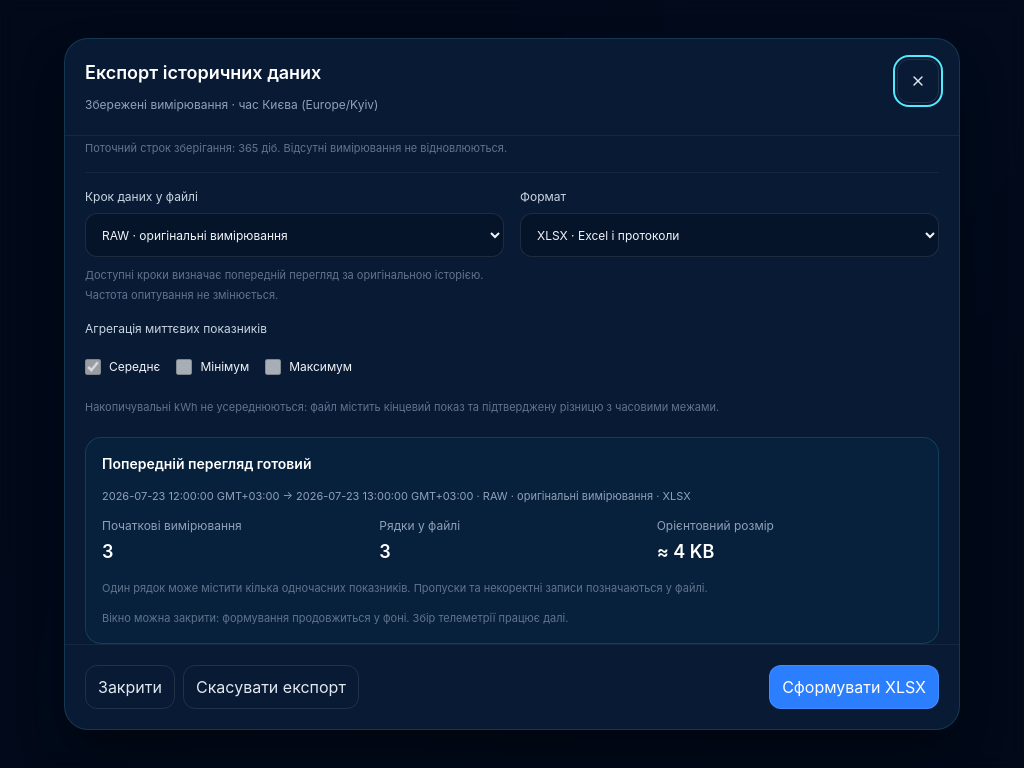
Test: Energy export dialog › invalidates prepared counts when step or format changes
(page scrolled)
Expected: the button "Сформувати XLSX" is shown, [769, 665, 939, 709]
Step 1. Select "1 хвилина" in the dropdown labelled "Крок даних у файлі" → [294, 235], box [85, 213, 504, 257]
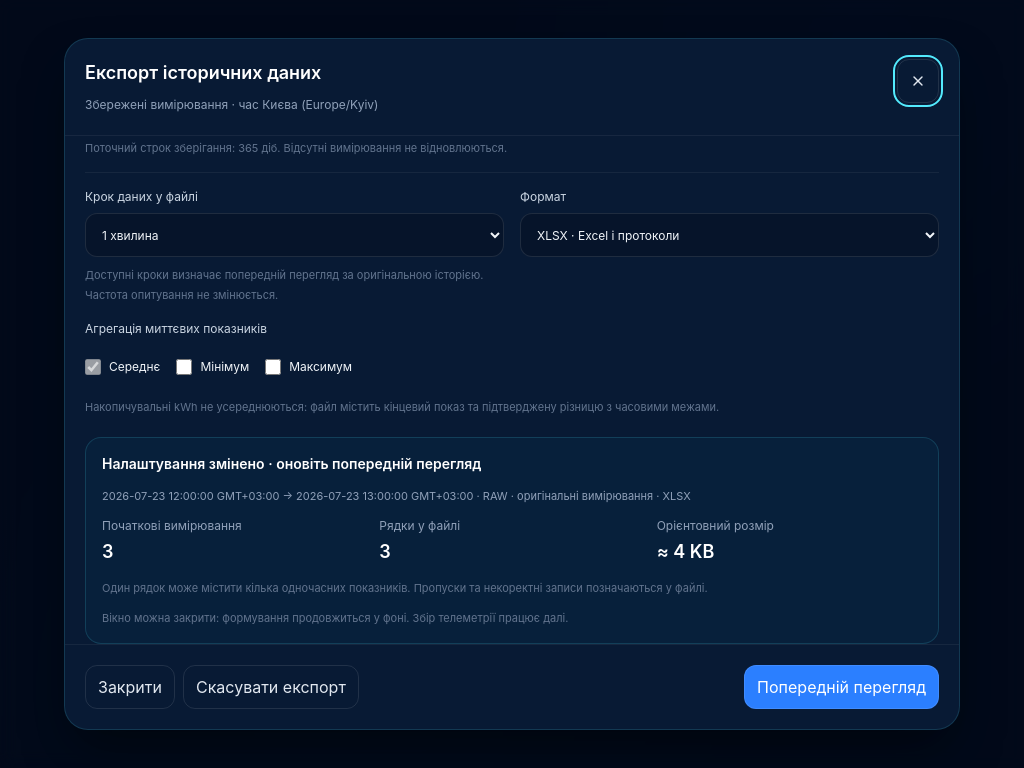
Now the button "Сформувати XLSX" is gone
Now the text "Налаштування змінено · оновіть попередній перегляд" is shown, box [102, 455, 481, 472]
